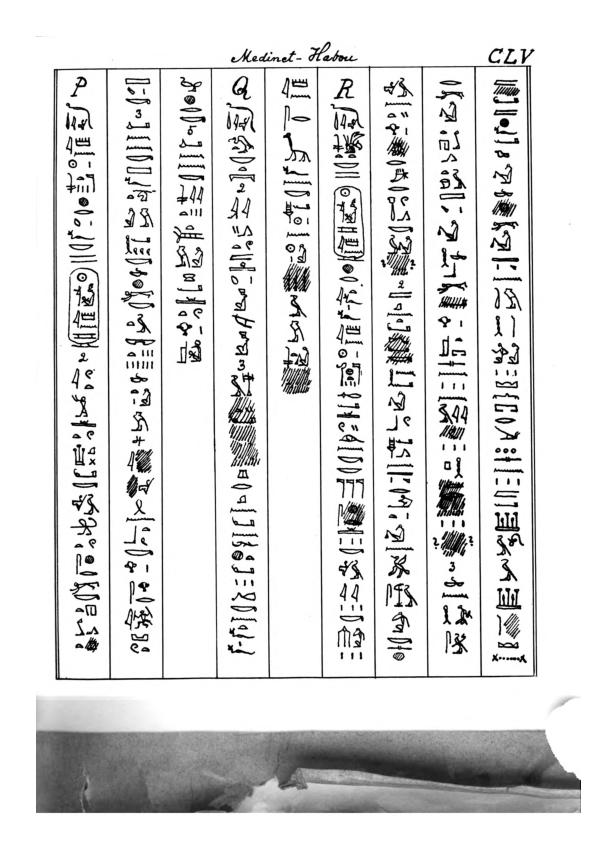circle: (329, 183, 367, 264), (66, 266, 101, 350)
